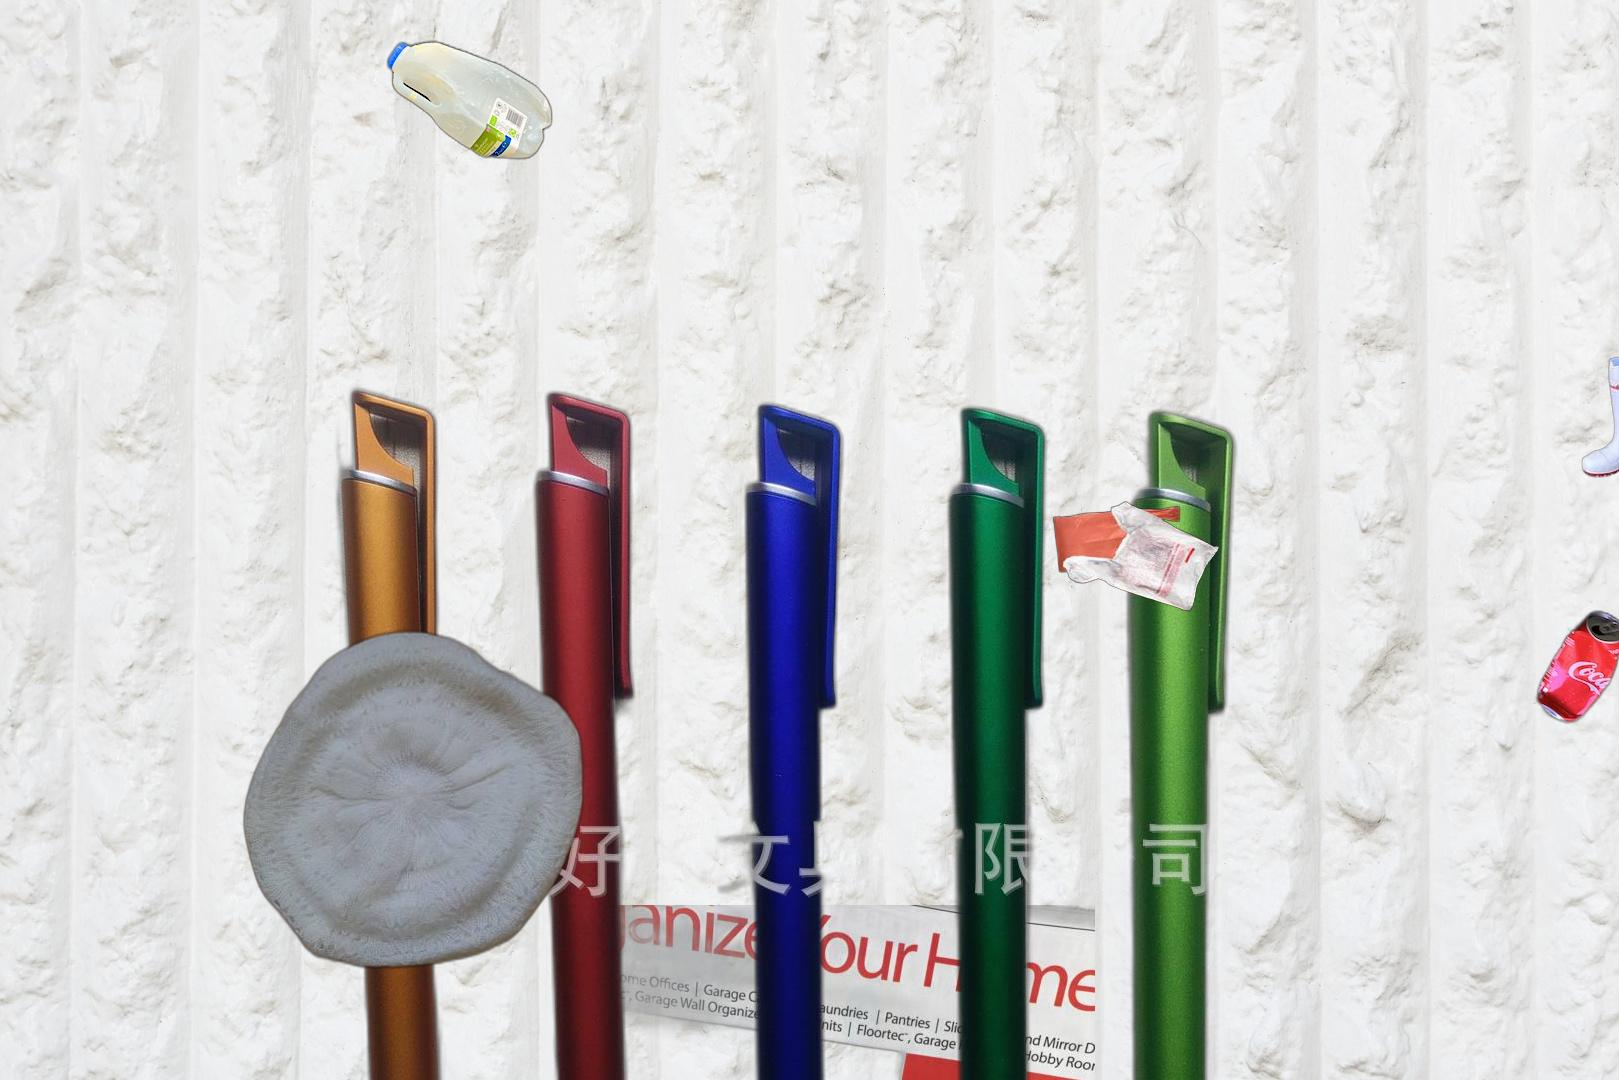clothes: (240, 624, 587, 975)
metal-cans: (1532, 606, 1619, 729)
paper: (583, 905, 1095, 1080)
penholder: (330, 356, 1278, 1080)
plastic-bag: (1052, 500, 1222, 614)
plastic-bottles: (383, 36, 556, 165)
shoes: (1579, 354, 1619, 521)
